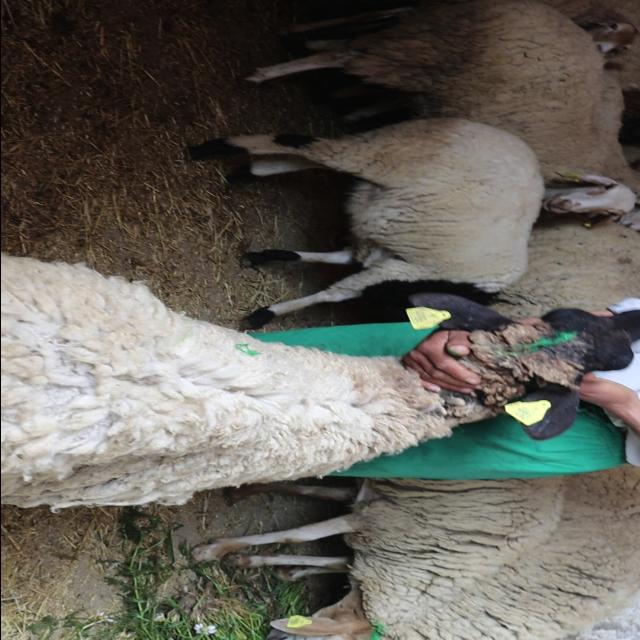Score_2: (1, 255, 631, 509)
